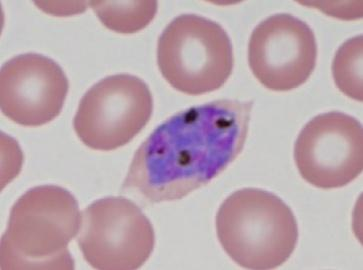Infected: (111, 57, 246, 173)
Uninfected: (64, 0, 148, 83), (211, 120, 290, 197), (130, 174, 204, 256), (209, 0, 288, 71), (46, 178, 116, 256), (280, 13, 354, 86), (0, 80, 69, 158), (295, 144, 363, 217)
